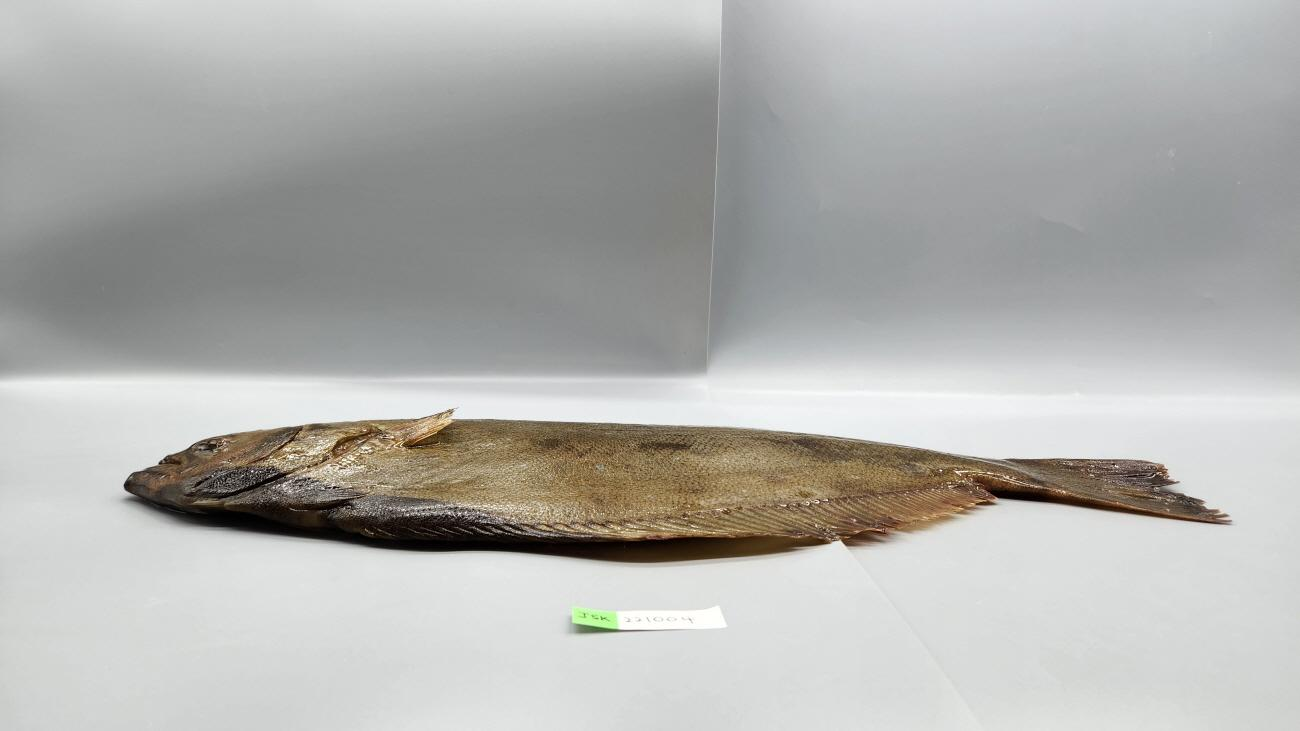POOUN: (124, 406, 1234, 542)
